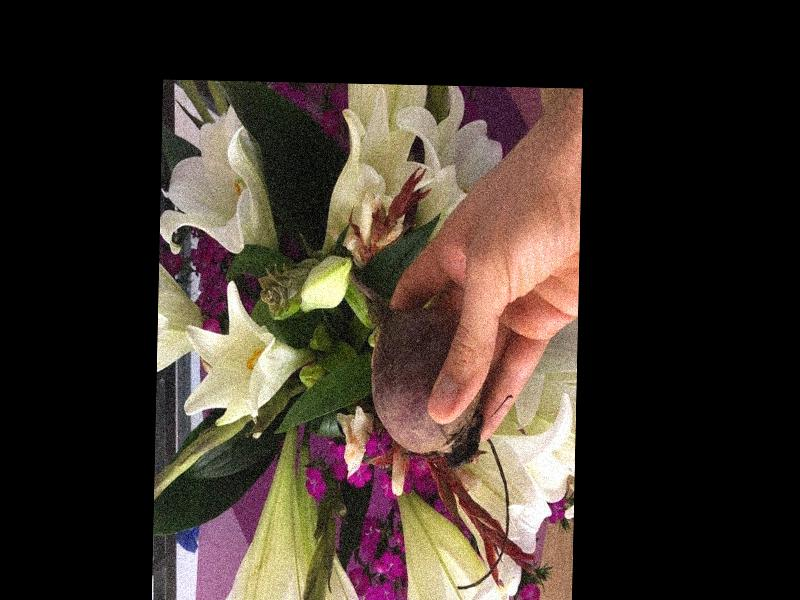Beet: (343, 266, 486, 468)
